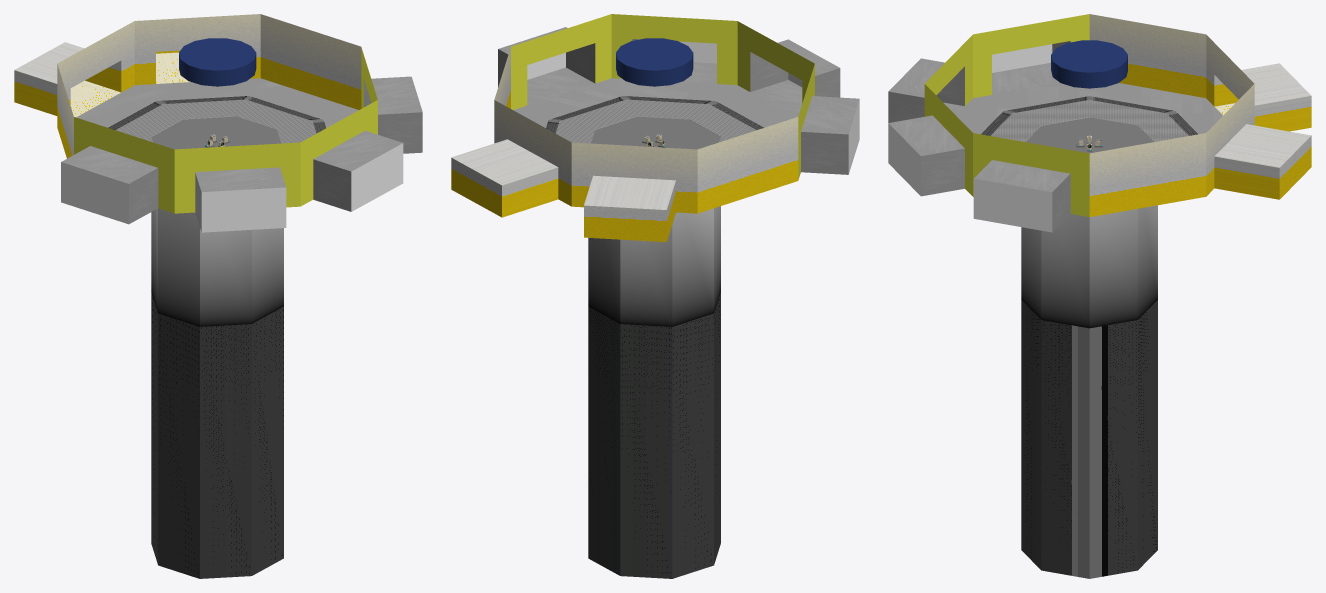
File: hubWorld.fbx
The picture shows the model from 3 angles, left to right: view 1: azimuth 30°, elevation 25°; view 2: azimuth 150°, elevation 25°; view 3: azimuth 270°, elevation 25°; orthographic projection.
Parts seen in each view (by area): view 1: Cylinder001, Cylinder003, elevator; view 2: Cylinder001, Cylinder003, elevator; view 3: Cylinder001, Cylinder003, elevator.
Part boxes in pixels (box(x1,y1,x2,y2)): Cylinder001: box(14, 14, 422, 578); Cylinder003: box(179, 38, 256, 86); elevator: box(151, 116, 280, 149); Cylinder001: box(451, 14, 859, 578); Cylinder003: box(616, 38, 693, 86); elevator: box(591, 116, 720, 149); Cylinder001: box(888, 14, 1311, 578); Cylinder003: box(1051, 40, 1127, 88); elevator: box(1025, 117, 1153, 153).
Size of the model in its own units: 218 by 295 by 229.
17 materials, 9 textured.
